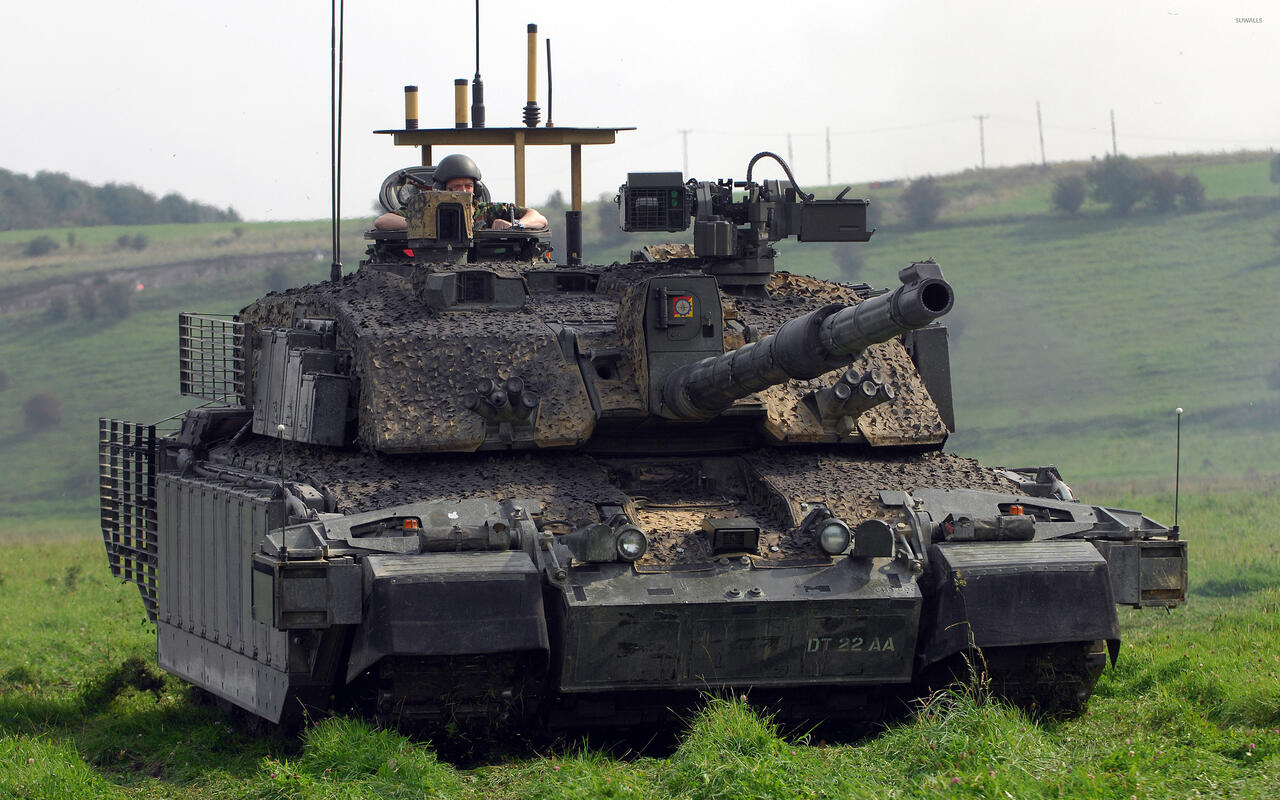pilot: (368, 136, 551, 245)
tank: (101, 151, 1192, 727)
